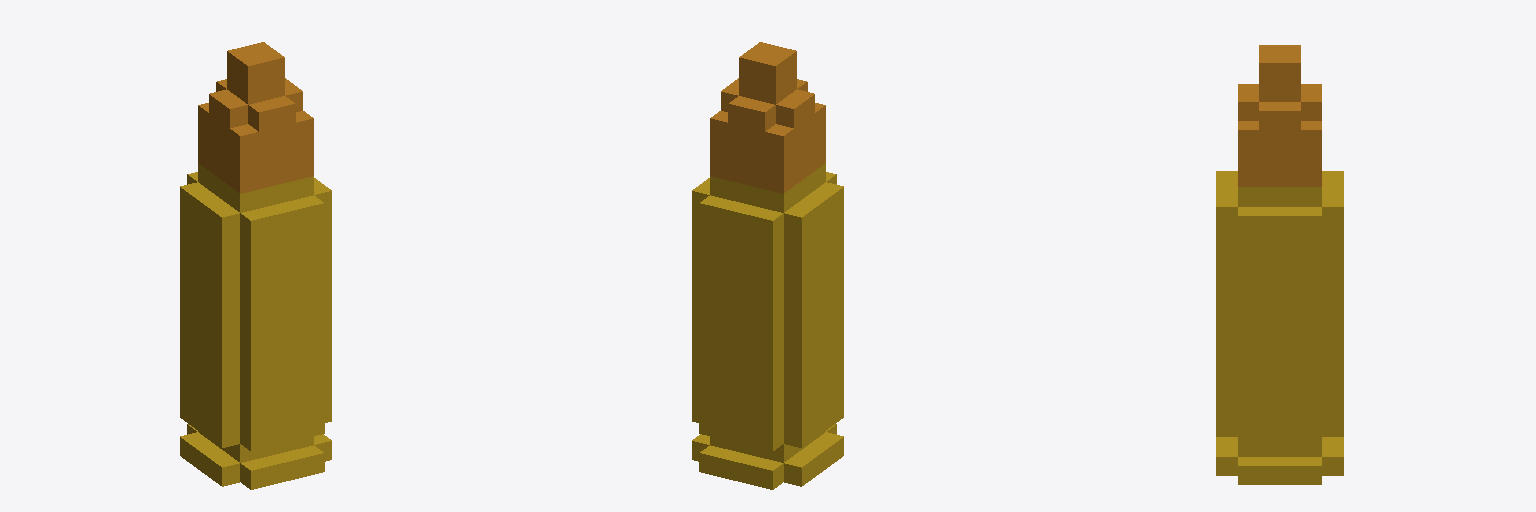
The picture shows the model from 3 angles: view 1: azimuth 30°, elevation 25°; view 2: azimuth 150°, elevation 25°; view 3: azimuth 270°, elevation 25°; orthographic projection.
Visible parts, largest first — view 1: object 1; view 2: object 1; view 3: object 1.
Part boxes in pixels (x1,y1,x2,y2): object 1: (180, 42, 331, 489); object 1: (692, 42, 843, 489); object 1: (1216, 45, 1343, 484).
Bounding box in the file's own units: 0.6 × 2.1 × 0.6.
1 materials, 1 textured.